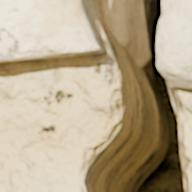broken_brick: (0, 0, 83, 40), (158, 0, 191, 89), (0, 40, 88, 63)
crack: (0, 0, 191, 191)
